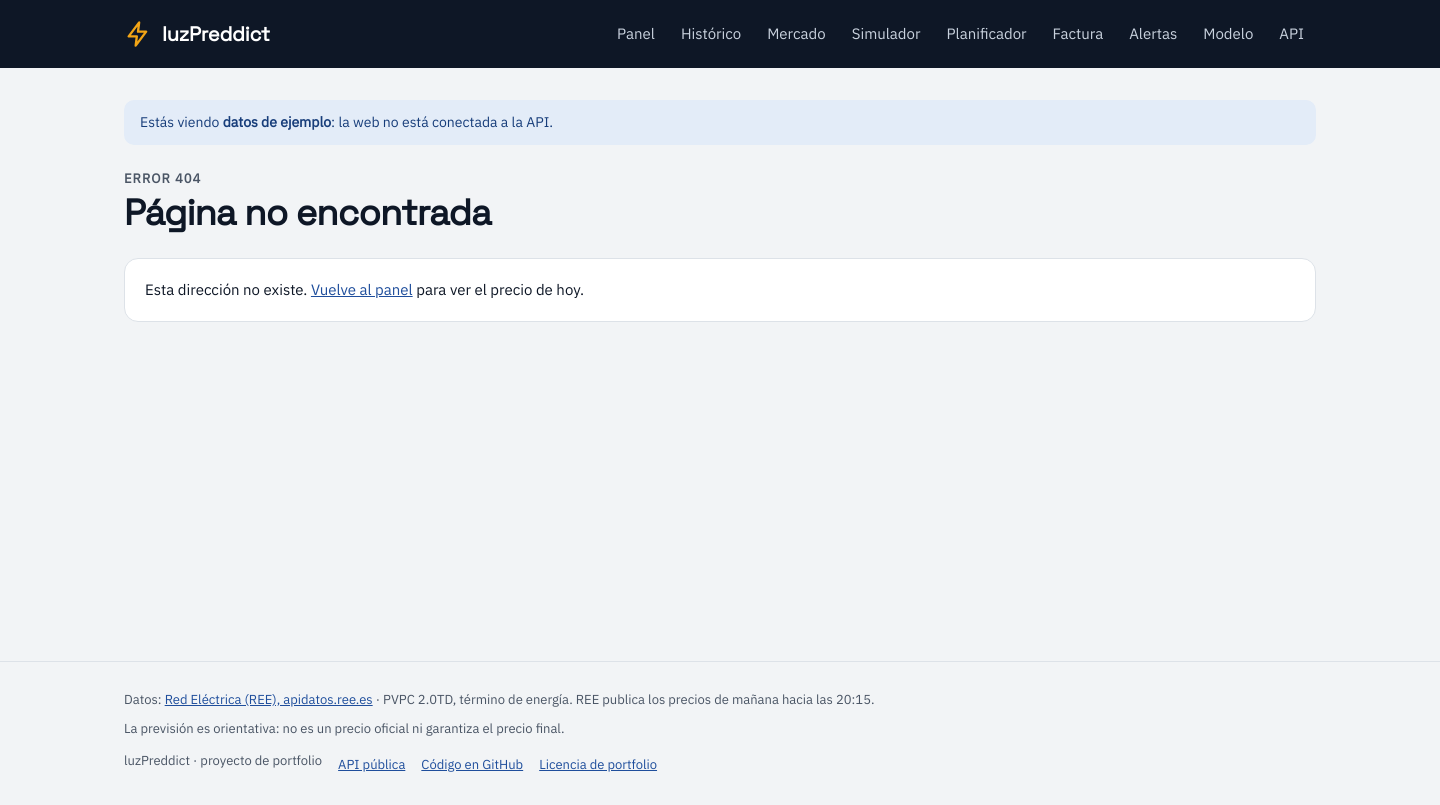
navegación › una dirección desconocida muestra la página 404 con la navegación
Expected: the heading "Página no encontrada" is shown, [124,192,491,234]
Click the link "Vuelve al panel" at (362, 289), box [311,280,413,299]
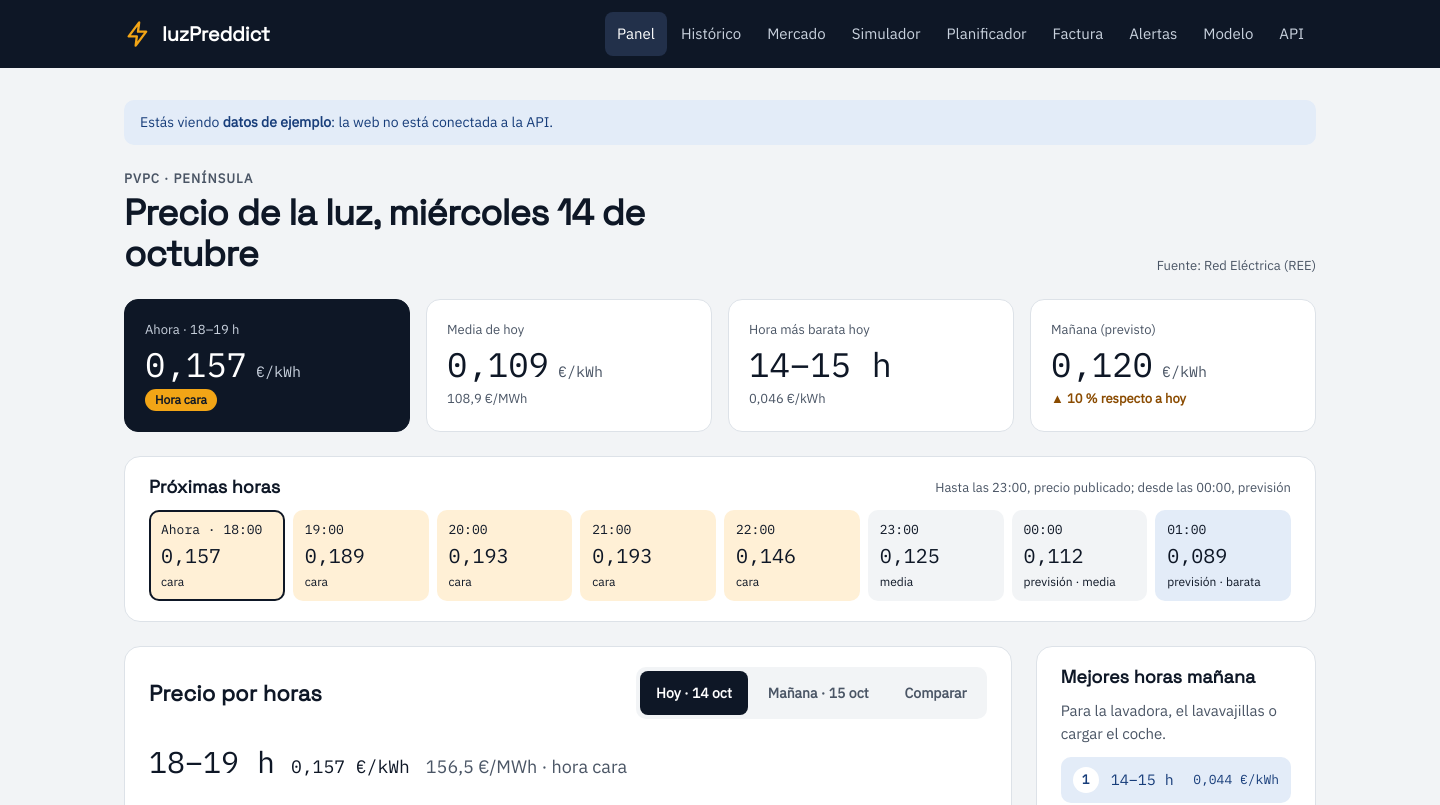
Result: the heading "Precio de la luz, miércoles 14 de octubre" is shown at [124,190,645,277]
